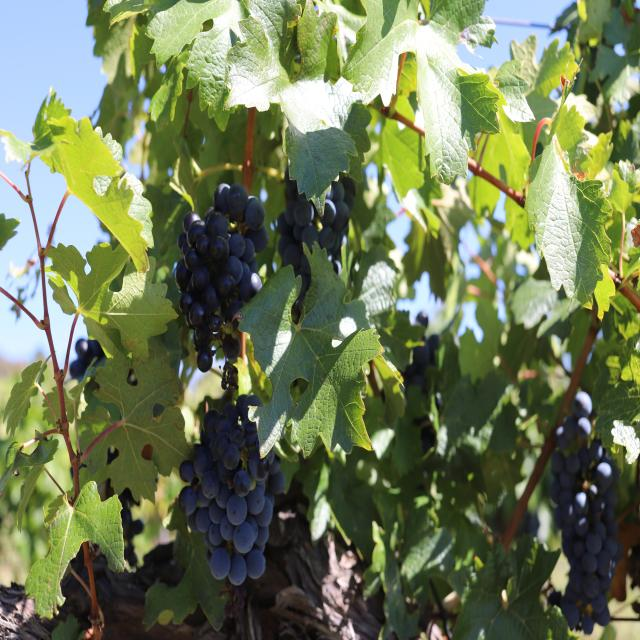grapes: (178, 394, 285, 585), (175, 183, 269, 372), (550, 392, 621, 634), (276, 168, 356, 322), (403, 334, 439, 393), (69, 338, 105, 378)
